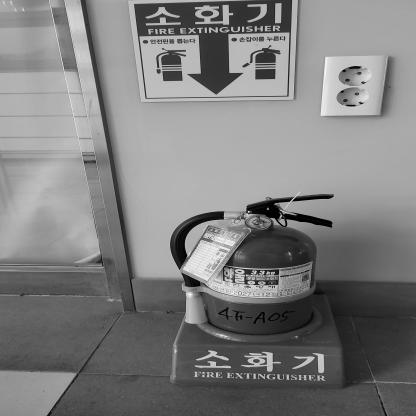FE: (172, 194, 345, 386)
